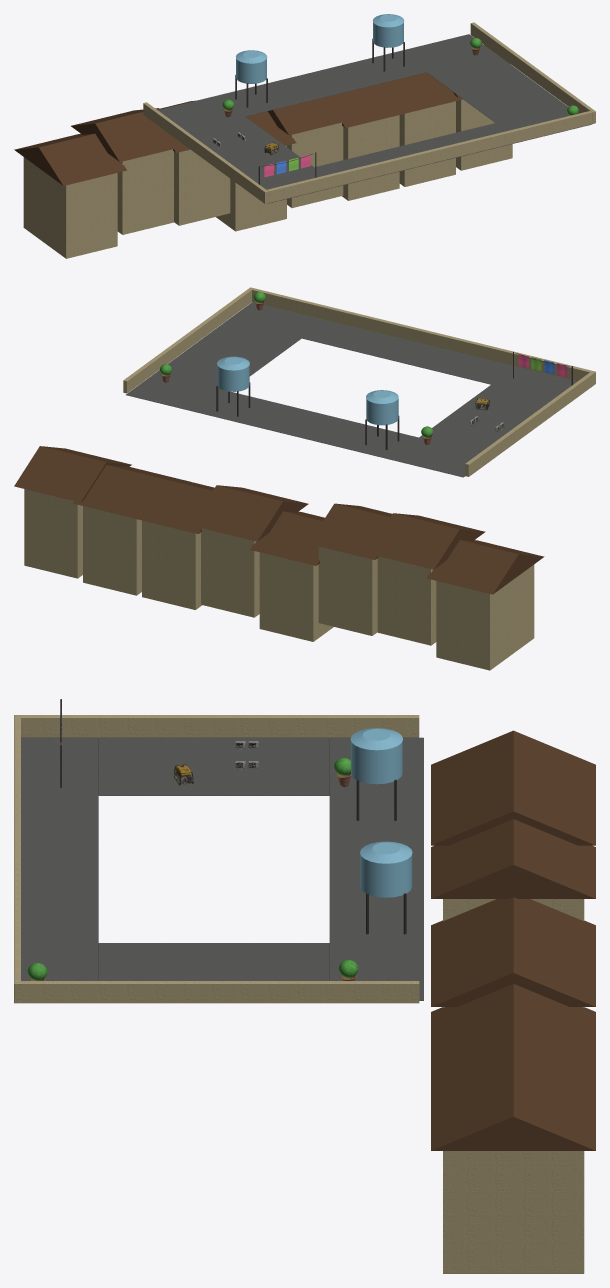
The model's file is pizza-luar.glb.
3 renders of one model, top to bottom at view 1: azimuth 30°, elevation 25°; view 2: azimuth 150°, elevation 25°; view 3: azimuth 270°, elevation 25°, orthographic. The views are drawn at different scales.
Parts seen in each view (by area): view 1: statis; view 2: statis; view 3: statis.
Part boxes in pixels (x1=…): statis: x1=14, y1=14, x2=595, y2=258; statis: x1=14, y1=287, x2=595, y2=670; statis: x1=14, y1=699, x2=595, y2=1273.
Size of the model in its own units: 37.4 by 15.01 by 24.7.
Materials: 16 (14 with a texture image).
